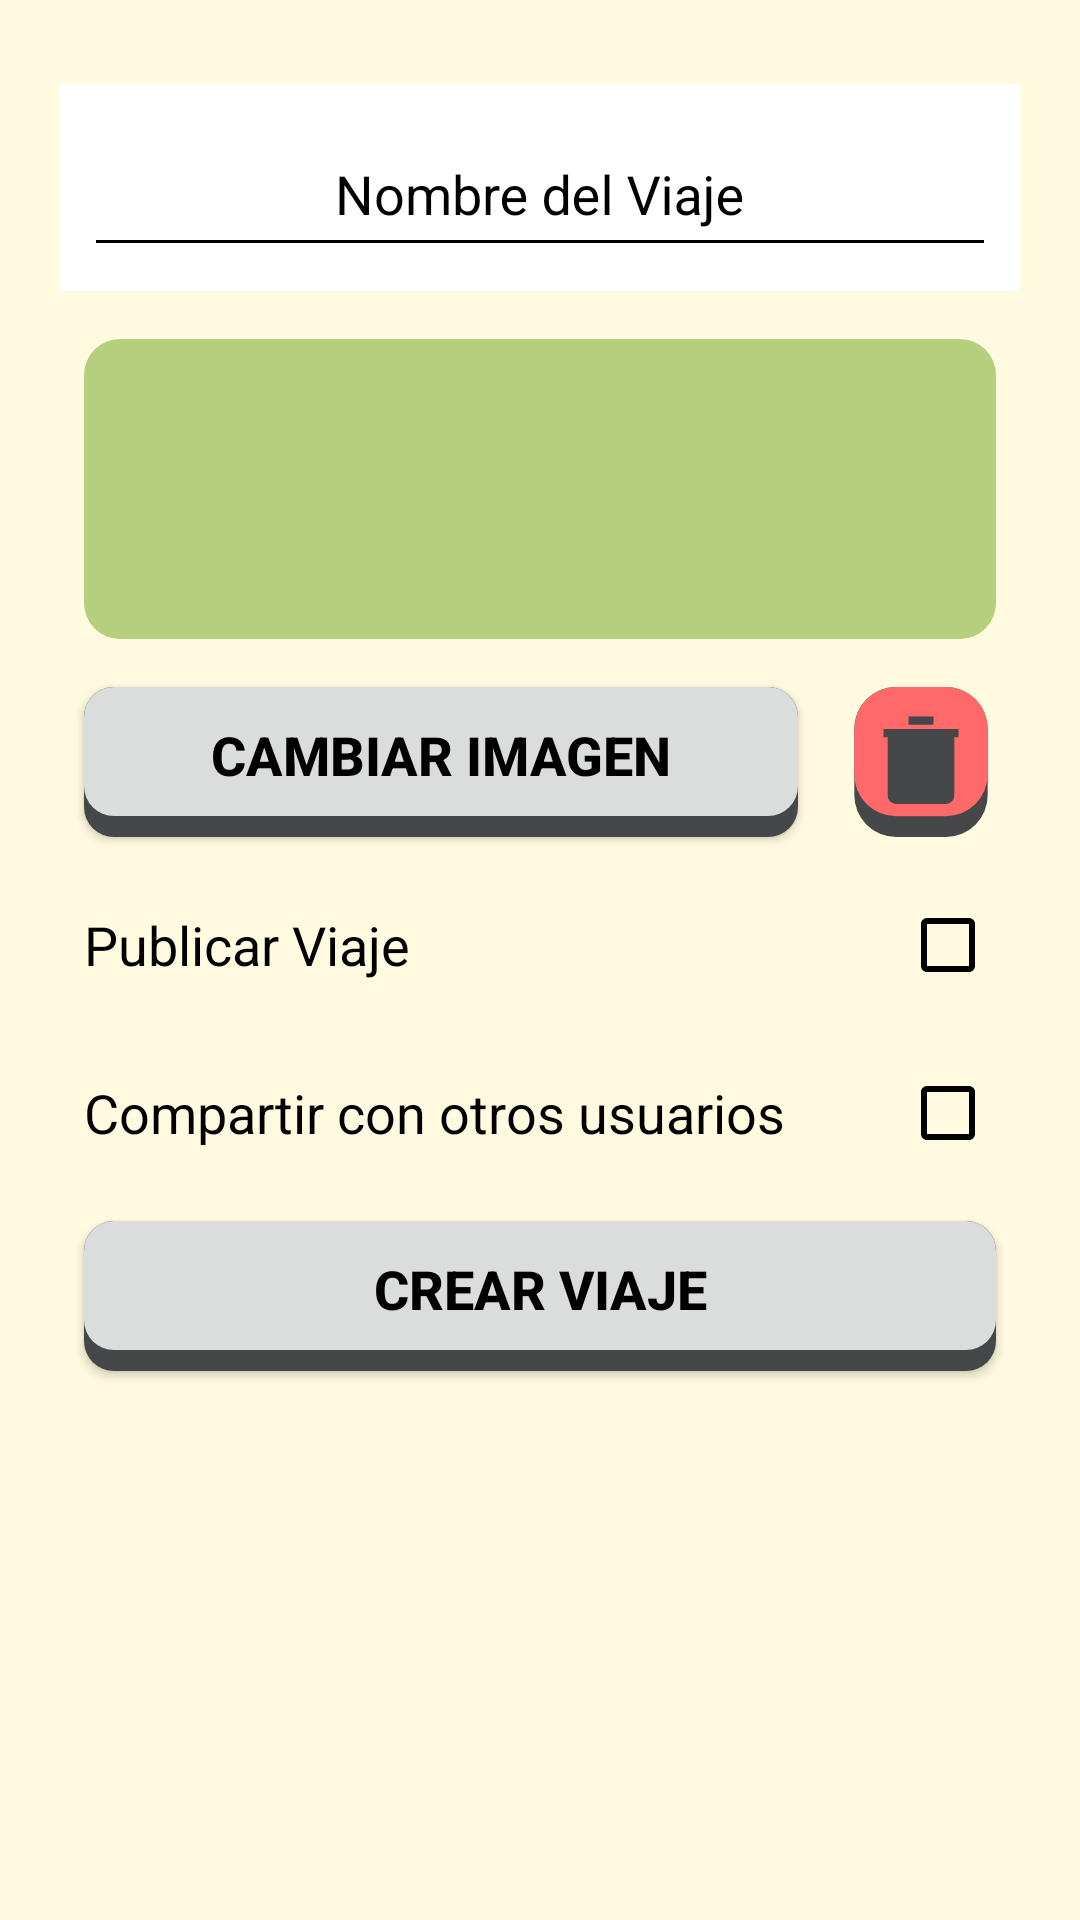

Locate icon controls on the screen. Image size 1080w x 1920h, boxes as [x1,y1,x2,y2].
delete: [854,687,988,837]
